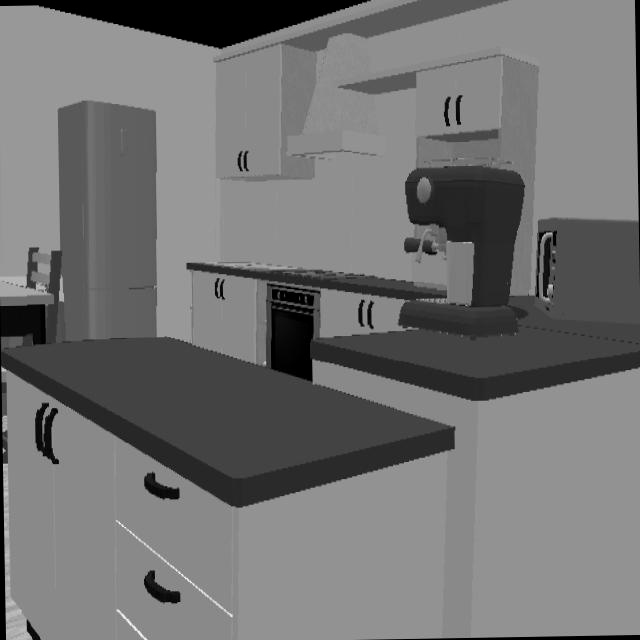cabinet: (1, 368, 450, 640), (315, 363, 640, 637), (334, 46, 541, 295), (213, 44, 316, 179), (190, 272, 266, 366), (317, 292, 403, 340), (412, 253, 448, 289)
chair: (26, 247, 62, 344), (21, 335, 32, 346)
countertop: (0, 338, 455, 509), (309, 296, 640, 402), (185, 262, 447, 300)
fridge: (57, 100, 157, 340)
microwave: (536, 217, 640, 325)
oven: (265, 282, 320, 383)
stove: (273, 269, 376, 279)
table: (0, 281, 54, 346)
